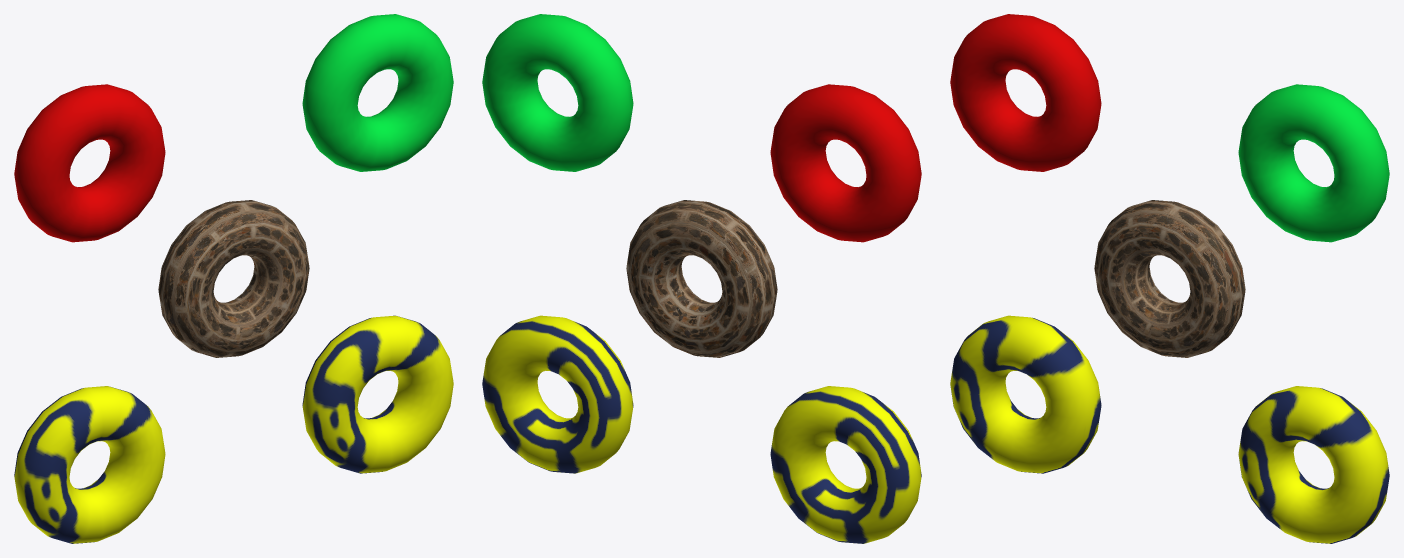
Rendered from donatu.fbx.
The picture shows the model from 3 angles, left to right: view 1: azimuth 30°, elevation 25°; view 2: azimuth 150°, elevation 25°; view 3: azimuth 330°, elevation 25°; orthographic projection.
Parts seen in each view (by area): view 1: pTorus6; view 2: pTorus6; view 3: pTorus6.
Part boxes in pixels (x1=…): pTorus6: x1=14, y1=14, x2=453, y2=543; pTorus6: x1=482, y1=14, x2=921, y2=543; pTorus6: x1=950, y1=14, x2=1389, y2=543.
Size of the model in its own units: 9 by 9 by 1.
Materials: 5 (3 with a texture image).
